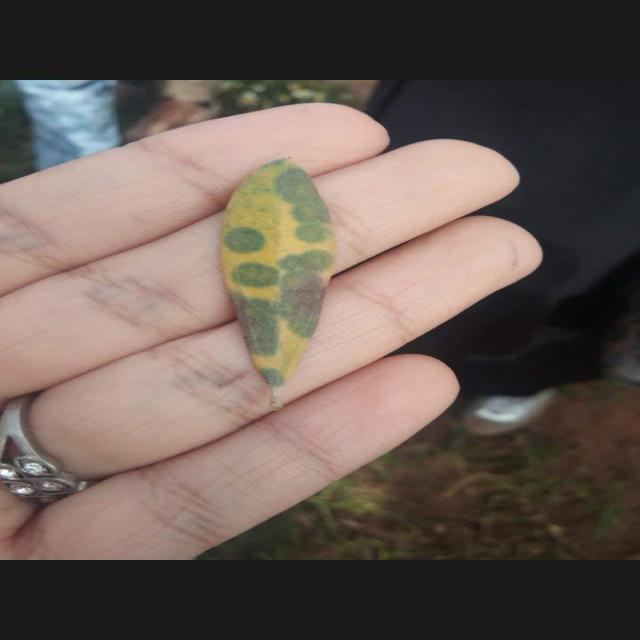OlivePeacockSpot: (220, 159, 334, 407)
